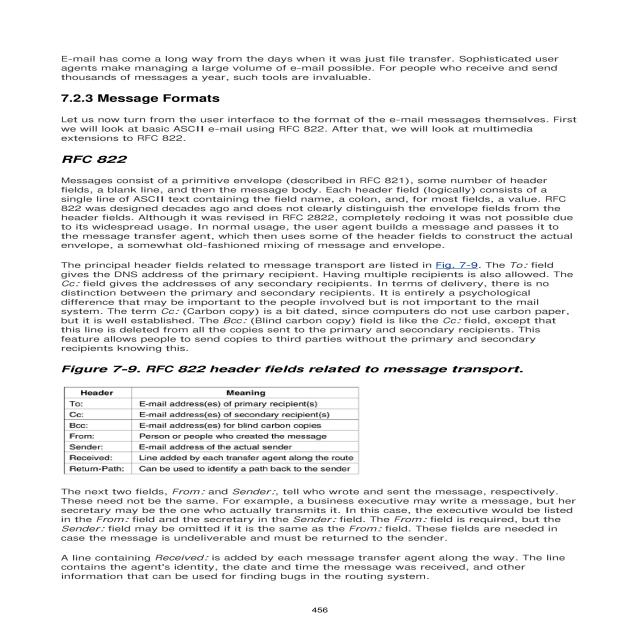diagram: (20, 355, 554, 482)
